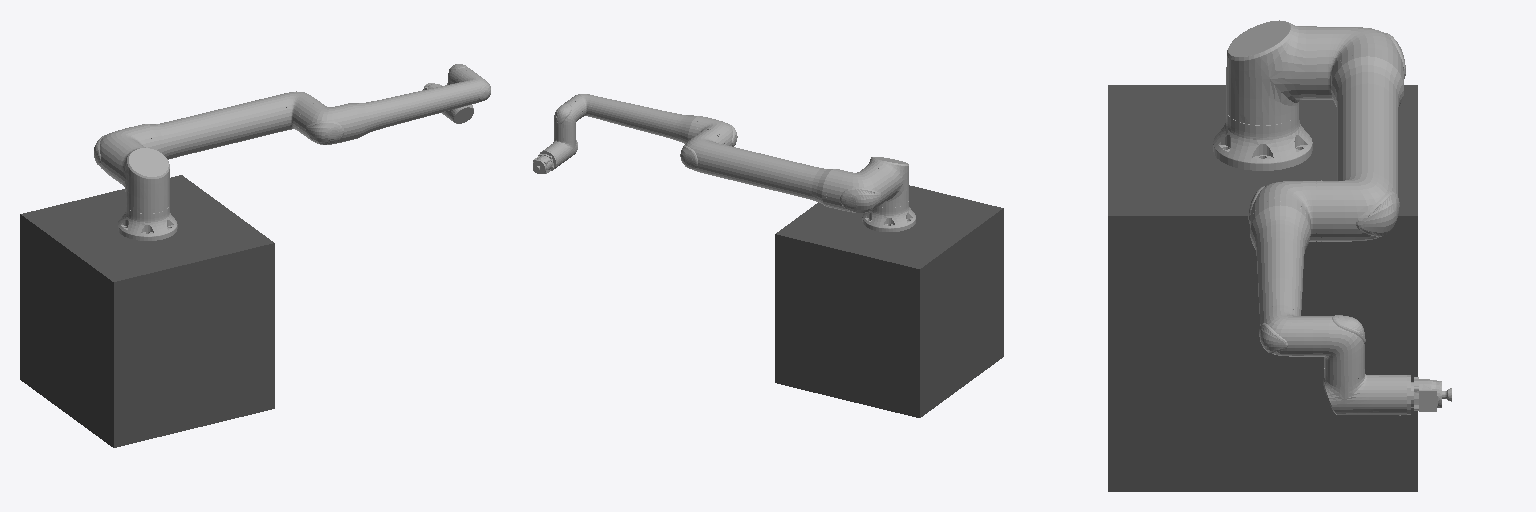
The robot description file, URDF, robot "ur20_robot":
<?xml version="1.0" ?>
<!-- =================================================================================== -->
<!-- |    This document was autogenerated by xacro from ur20.xacro                     | -->
<!-- |    EDITING THIS FILE BY HAND IS NOT RECOMMENDED                                 | -->
<!-- =================================================================================== -->
<robot name="ur20_robot">
  <!--
    Base UR robot series xacro macro.

    NOTE: this is NOT a URDF. It cannot directly be loaded by consumers
    expecting a flattened '.urdf' file. See the top-level '.xacro' for that
    (but note: that .xacro must still be processed by the xacro command).

    For use in '.launch' files: use one of the 'load_urX.launch' convenience
    launch files.

    This file models the base kinematic chain of a UR robot, which then gets
    parameterised by various configuration files to convert it into a UR3(e),
    UR5(e), UR10(e), UR16e, UR20 or UR30.

    NOTE: the default kinematic parameters (ie: link lengths, frame locations,
    offets, etc) do not correspond to any particular robot. They are defaults
    only. There WILL be non-zero offsets between the Forward Kinematics results
    in TF (ie: robot_state_publisher) and the values reported by the Teach
    Pendant.

    For accurate (and robot-specific) transforms, the 'kinematics_parameters_file'
    parameter MUST point to a .yaml file containing the appropriate values for
    the targetted robot.

    If using the UniversalRobots/Universal_Robots_ROS_Driver, follow the steps
    described in the readme of that repository to extract the kinematic
    calibration from the controller and generate the required .yaml file.

    Main author of the migration to yaml configs: Ludovic Delval.

    Contributors to previous versions (in no particular order):

     - Felix Messmer
     - Kelsey Hawkins
     - Wim Meeussen
     - Shaun Edwards
     - Nadia Hammoudeh Garcia
     - Dave Hershberger
     - G. vd. Hoorn
     - Philip Long
     - Dave Coleman
     - Miguel Prada
     - Mathias Luedtke
     - Marcel Schnirring
     - Felix von Drigalski
     - Felix Exner
     - Jimmy Da Silva
     - Ajit Krisshna N L
     - Muhammad Asif Rana
  -->
  <!--
    NOTE: the macro defined in this file is NOT part of the public API of this
          package. Users CANNOT rely on this file being available, or stored in
          this location. Nor can they rely on the existence of the macro.
  -->
  <transmission name="shoulder_pan_trans">
    <type>transmission_interface/SimpleTransmission</type>
    <joint name="shoulder_pan_joint">
      <hardwareInterface>hardware_interface/PositionJointInterface</hardwareInterface>
    </joint>
    <actuator name="shoulder_pan_motor">
      <mechanicalReduction>1</mechanicalReduction>
    </actuator>
  </transmission>
  <transmission name="shoulder_lift_trans">
    <type>transmission_interface/SimpleTransmission</type>
    <joint name="shoulder_lift_joint">
      <hardwareInterface>hardware_interface/PositionJointInterface</hardwareInterface>
    </joint>
    <actuator name="shoulder_lift_motor">
      <mechanicalReduction>1</mechanicalReduction>
    </actuator>
  </transmission>
  <transmission name="elbow_trans">
    <type>transmission_interface/SimpleTransmission</type>
    <joint name="elbow_joint">
      <hardwareInterface>hardware_interface/PositionJointInterface</hardwareInterface>
    </joint>
    <actuator name="elbow_motor">
      <mechanicalReduction>1</mechanicalReduction>
    </actuator>
  </transmission>
  <transmission name="wrist_1_trans">
    <type>transmission_interface/SimpleTransmission</type>
    <joint name="wrist_1_joint">
      <hardwareInterface>hardware_interface/PositionJointInterface</hardwareInterface>
    </joint>
    <actuator name="wrist_1_motor">
      <mechanicalReduction>1</mechanicalReduction>
    </actuator>
  </transmission>
  <transmission name="wrist_2_trans">
    <type>transmission_interface/SimpleTransmission</type>
    <joint name="wrist_2_joint">
      <hardwareInterface>hardware_interface/PositionJointInterface</hardwareInterface>
    </joint>
    <actuator name="wrist_2_motor">
      <mechanicalReduction>1</mechanicalReduction>
    </actuator>
  </transmission>
  <transmission name="wrist_3_trans">
    <type>transmission_interface/SimpleTransmission</type>
    <joint name="wrist_3_joint">
      <hardwareInterface>hardware_interface/PositionJointInterface</hardwareInterface>
    </joint>
    <actuator name="wrist_3_motor">
      <mechanicalReduction>1</mechanicalReduction>
    </actuator>
  </transmission>
    <!-- TODO: Added by Joe -->
    <!-- ===== world anchor and robot lift ===== -->
  <link name="world"/>

  <!-- Lift robot 29.5" (= 0.7493 m) above world -->
  <joint name="world_to_base_link" type="fixed">
    <parent link="world"/>
    <child link="base_link"/>
    <origin xyz="0 0 0.7493" rpy="0 0 0"/>
  </joint>

    <!-- ===== table geometry ===== -->
  <link name="table">
    <visual>
      <!-- If your visual mesh origin is at the *table center*, set xyz to table_center_in_world.
           If it's at the *table top*, set xyz to the table-top height (0.7493) -->
      <origin xyz="0 0 0.37465" rpy="0 0 0"/>
      <geometry>
        <mesh filename="package://ur_description/meshes/ur20/visual/table.obj" scale="1 1 1"/>
      </geometry>
      <material name="TableGrey">
        <color rgba="0.4 0.4 0.4 1.0"/>
      </material>
    </visual>
    <collision>
      <!-- Match pose to visual -->
      <origin xyz="0 0 0.37465" rpy="0 0 0"/>
      <geometry>
        <mesh filename="package://ur_description/meshes/ur20/collision/table.stl" scale="1 1 1"/>
      </geometry>
    </collision>
  </link>

  <!-- Attach table to world -->
  <joint name="world_to_table" type="fixed">
    <parent link="world"/>
    <child link="table"/>
    <origin xyz="0 0 0" rpy="0 0 0"/>
  </joint>
   <!-- TODO: Added by Joe -->
  <link name="base_link"/>
  <link name="base_link_inertia">
    <visual>
      <origin rpy="0 0 3.141592653589793" xyz="0 0 0"/>
      <geometry>
        <mesh filename="package://ur_description/meshes/ur20/visual/base.obj"/>
      </geometry>
      <material name="LightGrey">
        <color rgba="0.7 0.7 0.7 1.0"/>
      </material>
    </visual>
    <collision>
      <origin rpy="0 0 3.141592653589793" xyz="0 0 0"/>
      <geometry>
        <mesh filename="package://ur_description/meshes/ur20/collision/base.stl"/>
      </geometry>
    </collision>
    <inertial>
      <mass value="4.0"/>
      <origin rpy="0 0 0" xyz="0 0 0"/>
      <inertia ixx="0.0061063308908" ixy="0.0" ixz="0.0" iyy="0.0061063308908" iyz="0.0" izz="0.01125"/>
    </inertial>
  </link>
  <link name="shoulder_link">
    <visual>
      <origin rpy="0 0 3.141592653589793" xyz="0 0 0"/>
      <geometry>
        <mesh filename="package://ur_description/meshes/ur20/visual/shoulder.obj"/>
      </geometry>
      <material name="LightGrey">
        <color rgba="0.7 0.7 0.7 1.0"/>
      </material>
    </visual>
    <collision>
      <origin rpy="0 0 3.141592653589793" xyz="0 0 0"/>
      <geometry>
        <mesh filename="package://ur_description/meshes/ur20/collision/shoulder.stl"/>
      </geometry>
    </collision>
    <inertial>
      <mass value="16.343"/>
      <origin rpy="0 0 0" xyz="0 0 0"/>
      <inertia ixx="0.06613328496334209" ixy="0.0" ixz="0.0" iyy="0.06613328496334209" iyz="0.0" izz="0.0459646875"/>
    </inertial>
  </link>
  <link name="upper_arm_link">
    <visual>
      <origin rpy="1.5707963267948966 0 -1.5707963267948966" xyz="0 0 0.26"/>
      <geometry>
        <mesh filename="package://ur_description/meshes/ur20/visual/upperarm.obj"/>
      </geometry>
      <material name="LightGrey">
        <color rgba="0.7 0.7 0.7 1.0"/>
      </material>
    </visual>
    <collision>
      <origin rpy="1.5707963267948966 0 -1.5707963267948966" xyz="0 0 0.26"/>
      <geometry>
        <mesh filename="package://ur_description/meshes/ur20/collision/upperarm.stl"/>
      </geometry>
    </collision>
    <inertial>
      <mass value="29.632"/>
      <origin rpy="0 1.5707963267948966 0" xyz="-0.426 0.0 0.275"/>
      <inertia ixx="1.8341682103324226" ixy="0.0" ixz="0.0" iyy="1.8341682103324226" iyz="0.0" izz="0.08334"/>
    </inertial>
  </link>
  <link name="forearm_link">
    <visual>
      <origin rpy="1.5707963267948966 0 -1.5707963267948966" xyz="0 0 0.043"/>
      <geometry>
        <mesh filename="package://ur_description/meshes/ur20/visual/forearm.obj"/>
      </geometry>
      <material name="LightGrey">
        <color rgba="0.7 0.7 0.7 1.0"/>
      </material>
    </visual>
    <collision>
      <origin rpy="1.5707963267948966 0 -1.5707963267948966" xyz="0 0 0.043"/>
      <geometry>
        <mesh filename="package://ur_description/meshes/ur20/collision/forearm.stl"/>
      </geometry>
    </collision>
    <inertial>
      <mass value="7.879"/>
      <origin rpy="0 1.5707963267948966 0" xyz="-0.36435 0.0 0.043"/>
      <inertia ixx="0.35972787265129336" ixy="0.0" ixz="0.0" iyy="0.35972787265129336" iyz="0.0" izz="0.022159687499999997"/>
    </inertial>
  </link>
  <link name="wrist_1_link">
    <visual>
      <!-- TODO: Move this to a parameter -->
      <origin rpy="1.5707963267948966 0 0" xyz="0 0 -0.0775"/>
      <geometry>
        <mesh filename="package://ur_description/meshes/ur20/visual/wrist1.obj"/>
      </geometry>
      <material name="LightGrey">
        <color rgba="0.7 0.7 0.7 1.0"/>
      </material>
    </visual>
    <collision>
      <origin rpy="1.5707963267948966 0 0" xyz="0 0 -0.0775"/>
      <geometry>
        <mesh filename="package://ur_description/meshes/ur20/collision/wrist1.stl"/>
      </geometry>
    </collision>
    <inertial>
      <mass value="3.054"/>
      <origin rpy="0 0 0" xyz="0 0 0"/>
      <inertia ixx="0.007959484316204999" ixy="0.0" ixz="0.0" iyy="0.007959484316204999" iyz="0.0" izz="0.008589374999999998"/>
    </inertial>
  </link>
  <link name="wrist_2_link">
    <visual>
      <origin rpy="0 0 0" xyz="0 0 -0.0749"/>
      <geometry>
        <mesh filename="package://ur_description/meshes/ur20/visual/wrist2.obj"/>
      </geometry>
      <material name="LightGrey">
        <color rgba="0.7 0.7 0.7 1.0"/>
      </material>
    </visual>
    <collision>
      <origin rpy="0 0 0" xyz="0 0 -0.0749"/>
      <geometry>
        <mesh filename="package://ur_description/meshes/ur20/collision/wrist2.stl"/>
      </geometry>
    </collision>
    <inertial>
      <mass value="3.126"/>
      <origin rpy="0 0 0" xyz="0 0 0"/>
      <inertia ixx="0.008147134241144998" ixy="0.0" ixz="0.0" iyy="0.008147134241144998" iyz="0.0" izz="0.008791875"/>
    </inertial>
  </link>
  <link name="wrist_3_link">
    <visual>
      <origin rpy="1.5707963267948966 0 0" xyz="0 0 -0.07"/>
      <geometry>
        <mesh filename="package://ur_description/meshes/ur20/visual/wrist3.obj"/>
      </geometry>
      <material name="LightGrey">
        <color rgba="0.7 0.7 0.7 1.0"/>
      </material>
    </visual>
    <collision>
      <origin rpy="1.5707963267948966 0 0" xyz="0 0 -0.07"/>
      <geometry>
        <mesh filename="package://ur_description/meshes/ur20/collision/wrist3.stl"/>
      </geometry>
    </collision>
    <inertial>
      <mass value="0.846"/>
      <origin rpy="0 0 0" xyz="0.0 0.0 -0.025"/>
      <inertia ixx="0.000604537258185" ixy="0.0" ixz="0.0" iyy="0.000604537258185" iyz="0.0" izz="0.0008565749999999999"/>
    </inertial>
  </link>
  <!-- joints: main serial chain -->
  <joint name="base_link-base_link_inertia" type="fixed">
    <parent link="base_link"/>
    <child link="base_link_inertia"/>
    <!-- 'base_link' is REP-103 aligned (so X+ forward), while the internal
           frames of the robot/controller have X+ pointing backwards.
           Use the joint between 'base_link' and 'base_link_inertia' (a dummy
           link/frame) to introduce the necessary rotation over Z (of pi rad).
      -->
    <origin rpy="0 0 3.141592653589793" xyz="0 0 0"/>
  </joint>
  <joint name="shoulder_pan_joint" type="revolute">
    <parent link="base_link_inertia"/>
    <child link="shoulder_link"/>
    <origin rpy="0 0 0" xyz="0 0 0.2363"/>
    <axis xyz="0 0 1"/>
    <limit effort="730.0" lower="-6.283185307179586" upper="6.283185307179586" velocity="2.0943951023931953"/>
    <dynamics damping="0" friction="0"/>
  </joint>
  <joint name="shoulder_lift_joint" type="revolute">
    <parent link="shoulder_link"/>
    <child link="upper_arm_link"/>
    <origin rpy="1.570796327 0 0" xyz="0 0 0"/>
    <axis xyz="0 0 1"/>
    <limit effort="730.0" lower="-6.283185307179586" upper="6.283185307179586" velocity="2.0943951023931953"/>
    <dynamics damping="0" friction="0"/>
  </joint>
  <joint name="elbow_joint" type="revolute">
    <parent link="upper_arm_link"/>
    <child link="forearm_link"/>
    <origin rpy="0 0 0" xyz="-0.862 0 0"/>
    <axis xyz="0 0 1"/>
    <limit effort="430.0" lower="-3.141592653589793" upper="3.141592653589793" velocity="2.6179938779914944"/>
    <dynamics damping="0" friction="0"/>
  </joint>
  <joint name="wrist_1_joint" type="revolute">
    <parent link="forearm_link"/>
    <child link="wrist_1_link"/>
    <origin rpy="0 0 0" xyz="-0.7287 0 0.201"/>
    <axis xyz="0 0 1"/>
    <limit effort="100.0" lower="-6.283185307179586" upper="6.283185307179586" velocity="3.6651914291880923"/>
    <dynamics damping="0" friction="0"/>
  </joint>
  <joint name="wrist_2_joint" type="revolute">
    <parent link="wrist_1_link"/>
    <child link="wrist_2_link"/>
    <origin rpy="1.570796327 0 0" xyz="0 -0.1593 -3.267297616249225e-11"/>
    <axis xyz="0 0 1"/>
    <limit effort="100.0" lower="-6.283185307179586" upper="6.283185307179586" velocity="3.6651914291880923"/>
    <dynamics damping="0" friction="0"/>
  </joint>
  <joint name="wrist_3_joint" type="revolute">
    <parent link="wrist_2_link"/>
    <child link="wrist_3_link"/>
    <origin rpy="1.570796326589793 3.141592653589793 3.141592653589793" xyz="0 0.1543 -3.1647459019915597e-11"/>
    <axis xyz="0 0 1"/>
    <limit effort="100.0" lower="-6.283185307179586" upper="6.283185307179586" velocity="3.6651914291880923"/>
    <dynamics damping="0" friction="0"/>
  </joint>
  <!-- ROS-Industrial 'base' frame: base_link to UR 'Base' Coordinates transform -->
  <link name="base"/>
  <joint name="base_link-base_fixed_joint" type="fixed">
    <!-- Note the rotation over Z of pi radians: as base_link is REP-103
           aligned (ie: has X+ forward, Y+ left and Z+ up), this is needed
           to correctly align 'base' with the 'Base' coordinate system of
           the UR controller.
      -->
    <origin rpy="0 0 3.141592653589793" xyz="0 0 0"/>
    <parent link="base_link"/>
    <child link="base"/>
  </joint>
  <!-- ROS-Industrial 'flange' frame: attachment point for EEF models -->
  <link name="flange"/>
  <joint name="wrist_3-flange" type="fixed">
    <parent link="wrist_3_link"/>
    <child link="flange"/>
    <origin rpy="0 -1.5707963267948966 -1.5707963267948966" xyz="0 0 0"/>
  </joint>
  <!-- ROS-Industrial 'tool0' frame: all-zeros tool frame -->
  <link name="tool0"/>
  <joint name="flange-tool0" type="fixed">
    <!-- default toolframe: X+ left, Y+ up, Z+ front -->
    <origin rpy="1.5707963267948966 0 1.5707963267948966" xyz="0 0 0"/>
    <parent link="flange"/>
    <child link="tool0"/>
  </joint>
  <!-- === begin Piab gripper === -->
  <link name="piab_gripper">
    <visual>
      <origin xyz="0 0 0" rpy="0 0 0"/>
      <geometry>
        <mesh filename="package://ur_description/meshes/ur20/visual/piab_gripper.obj"/>
      </geometry>
      <material name="Gray">
        <color rgba="0.7 0.7 0.7 1.0"/>
      </material>
    </visual>
    <collision>
      <origin xyz="0 0 0" rpy="0 0 0"/>
      <geometry>
        <mesh filename="package://ur_description/meshes/ur20/collision/gripper_collision.stl"/>
      </geometry>
    </collision>
    <!-- inertial can be omitted (massless) or filled in if you know the gripper mass/inertia -->
  </link>
  <joint name="tool0_to_piab_gripper" type="fixed">
    <parent link="tool0"/>
    <child  link="piab_gripper"/>
    <!-- tcf.point = [-1.7e-13, -4.2e-17, 0.109815...] ≃ (0,0,0.109815) with identity axes -->
    <origin xyz="0 0 0" rpy="0 0 0"/>
  </joint>
  <!-- === end Piab gripper === -->
</robot>

--- Facts derived from the render (not from the file) ---
3 views of the same robot in one strip: view 1: azimuth 30°, elevation 25°; view 2: azimuth 150°, elevation 25°; view 3: azimuth 270°, elevation 25° (orthographic).
Robot: ur20_robot — 14 links, 13 joints (6 revolute, 7 fixed); root link world; default pose: all joints at 0.
Visible links, largest first — view 1: table, upper_arm_link, forearm_link, shoulder_link, base_link_inertia; view 2: table, upper_arm_link, forearm_link, shoulder_link, base_link_inertia, wrist_1_link; view 3: table, upper_arm_link, forearm_link, shoulder_link, base_link_inertia, wrist_1_link, wrist_2_link, piab_gripper, wrist_3_link.
Link boxes in pixels (x1,y1,x2,y2): table: [20, 175, 274, 447]; upper_arm_link: [94, 91, 320, 180]; forearm_link: [297, 72, 490, 144]; shoulder_link: [112, 144, 169, 213]; base_link_inertia: [118, 205, 177, 240]; table: [775, 185, 1003, 417]; upper_arm_link: [680, 130, 891, 212]; forearm_link: [568, 94, 737, 146]; shoulder_link: [865, 157, 908, 207]; base_link_inertia: [862, 201, 915, 231]; wrist_1_link: [554, 100, 582, 137]; table: [1108, 85, 1417, 491]; upper_arm_link: [1315, 27, 1405, 241]; forearm_link: [1248, 181, 1322, 356]; shoulder_link: [1226, 20, 1316, 125]; base_link_inertia: [1213, 111, 1312, 170]; wrist_1_link: [1313, 315, 1365, 375]; wrist_2_link: [1323, 369, 1378, 414]; piab_gripper: [1407, 375, 1451, 414]; wrist_3_link: [1379, 375, 1406, 415].
Size in the robot's own frame: 2.02 by 0.8461 by 1.08 metres.
Meshes: 9 distinct files referenced, 9 mesh visuals loaded (9 OBJ).
